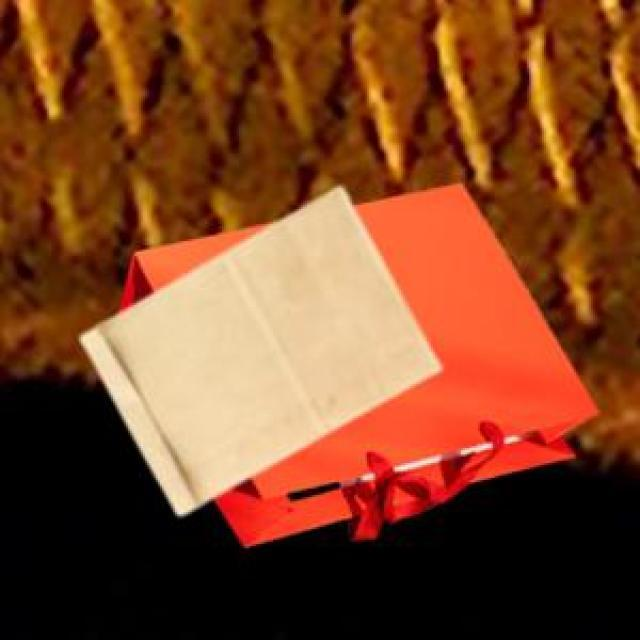paper: (115, 179, 593, 542), (77, 184, 435, 510)
